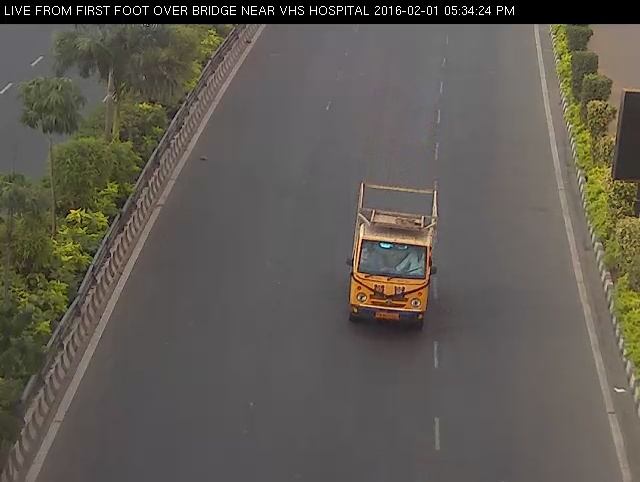Car: (334, 168, 446, 342)
